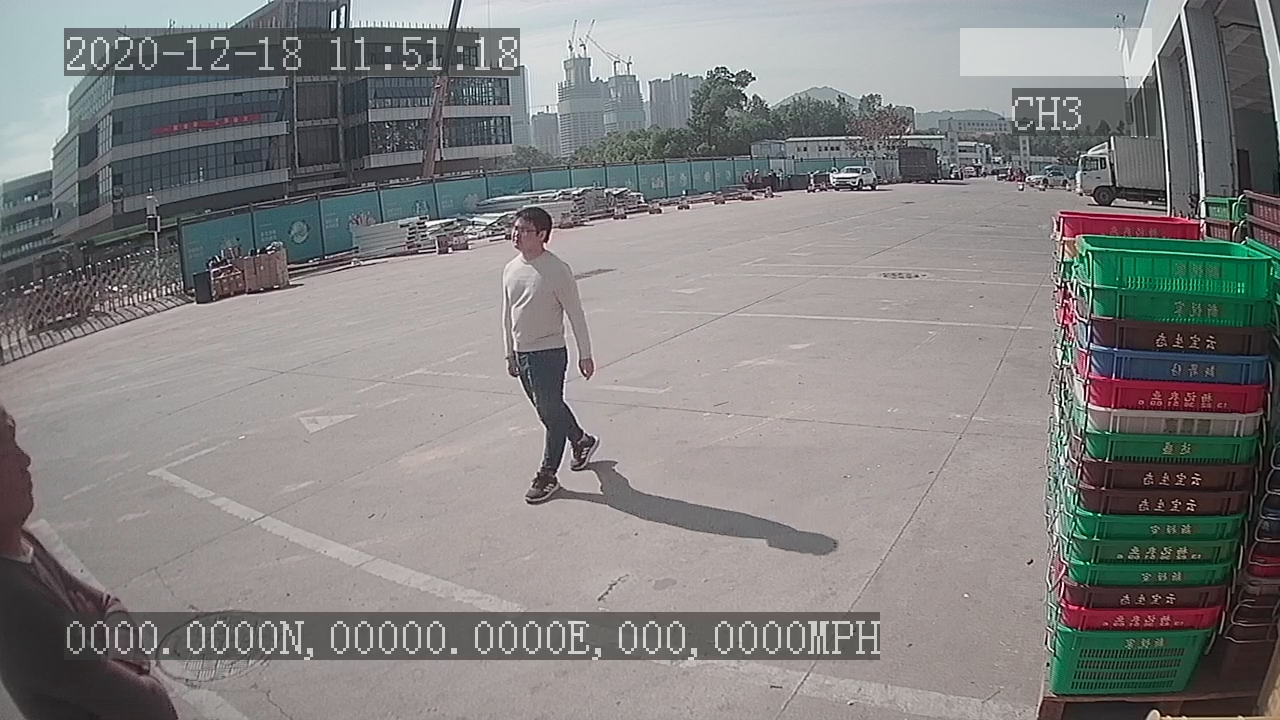person: (493, 202, 606, 517)
